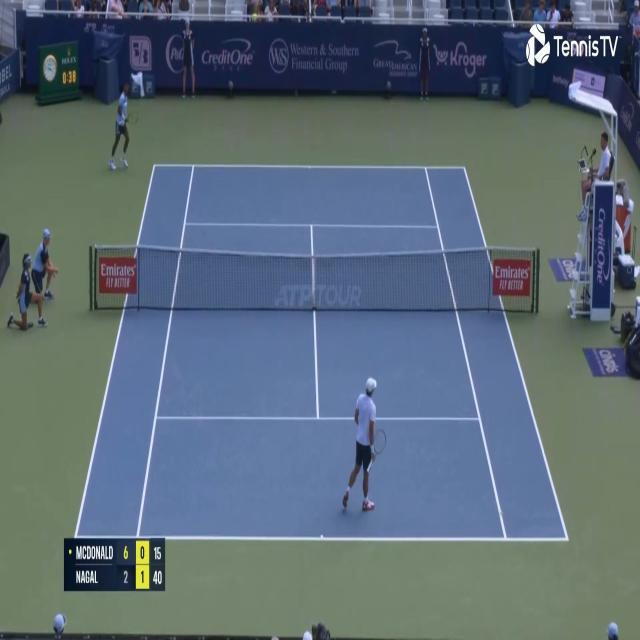tennis-player: (339, 373, 384, 520), (106, 74, 150, 173)
